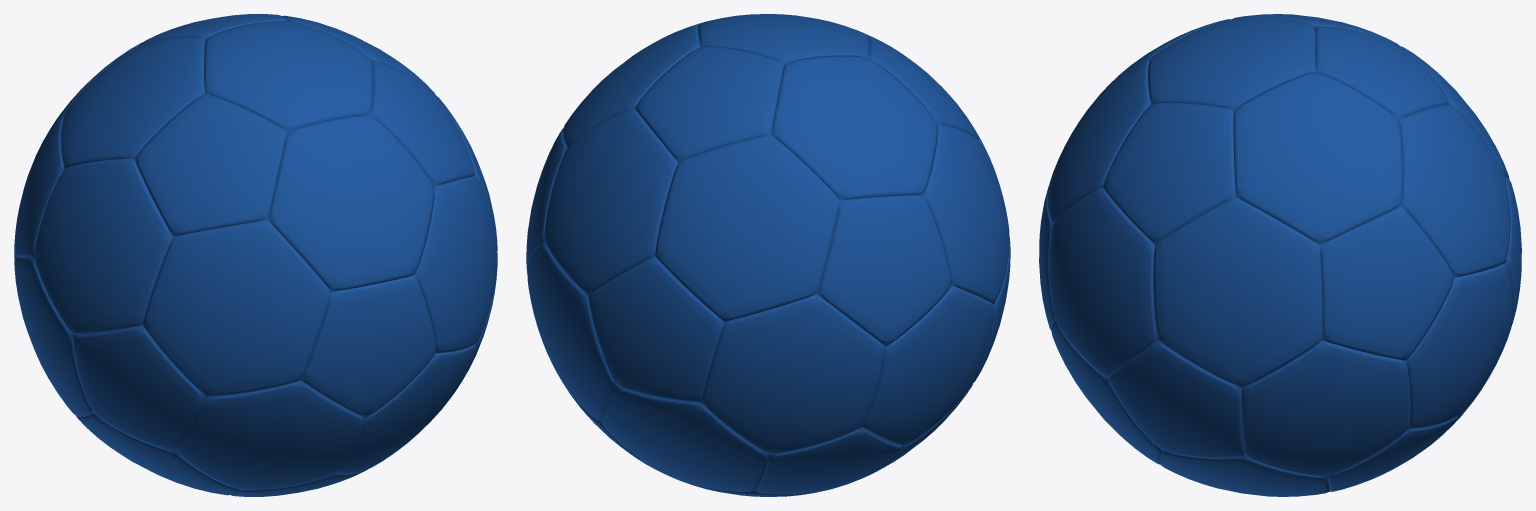
File: balon_azul.glb
3 renders of one model, left to right at view 1: azimuth 30°, elevation 25°; view 2: azimuth 150°, elevation 25°; view 3: azimuth 270°, elevation 25°, orthographic.
Parts seen in each view (by area): view 1: SoccerBall_0; view 2: SoccerBall_0; view 3: SoccerBall_0.
Boxes of the visible parts, x1,y1,x2,y2 form: SoccerBall_0: [14, 14, 497, 496]; SoccerBall_0: [526, 14, 1010, 496]; SoccerBall_0: [1039, 14, 1521, 496].
Size of the model in its own units: 0.5816 by 0.5808 by 0.5805.
